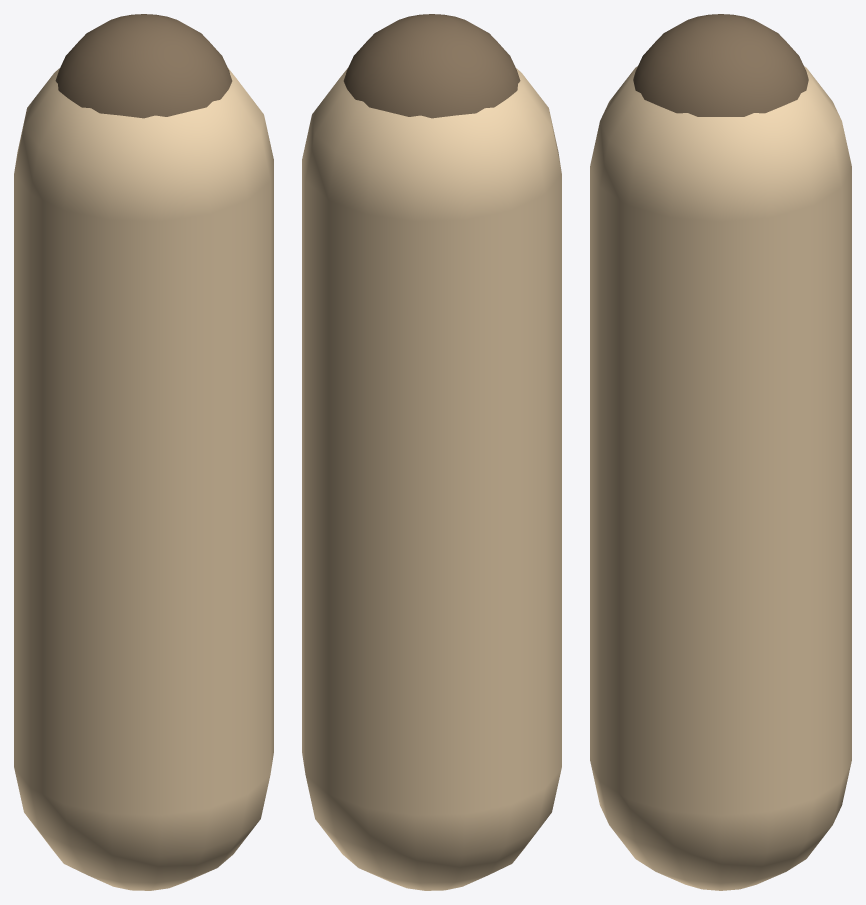
Rendered from doll_UpperLeg_R.glb.
The picture shows the model from 3 angles, left to right: view 1: azimuth 30°, elevation 25°; view 2: azimuth 150°, elevation 25°; view 3: azimuth 270°, elevation 25°; orthographic projection.
Parts seen in each view (by area): view 1: UpperLeg_R; view 2: UpperLeg_R; view 3: UpperLeg_R.
Boxes of the visible parts, left/top/right/bottom form: UpperLeg_R: left=14, top=14, right=273, bottom=890; UpperLeg_R: left=302, top=14, right=561, bottom=890; UpperLeg_R: left=590, top=14, right=851, bottom=890.
Bounding box in the file's own units: 0.14 × 0.505 × 0.14.
